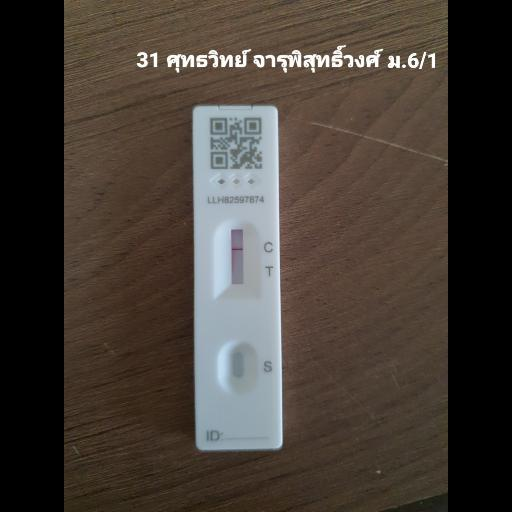Neg: (192, 106, 282, 448)
